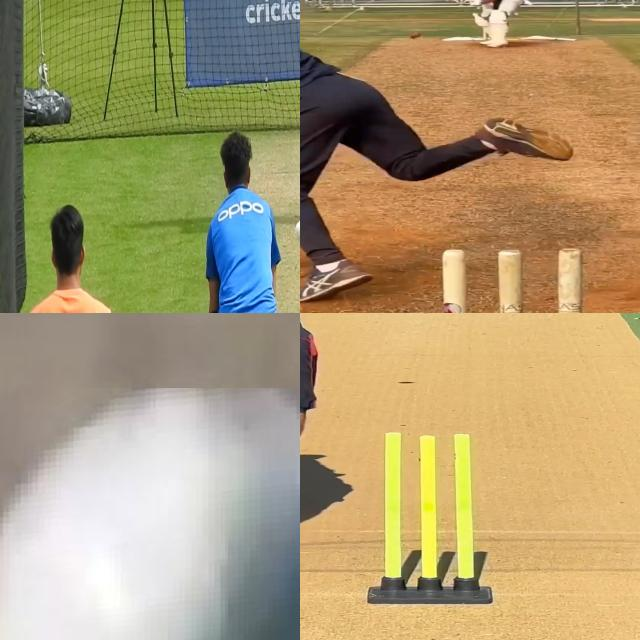Cricket ball: (0, 388, 300, 640), (293, 219, 300, 247), (409, 32, 424, 40)
Stumps: (379, 429, 484, 605), (434, 246, 587, 313)
